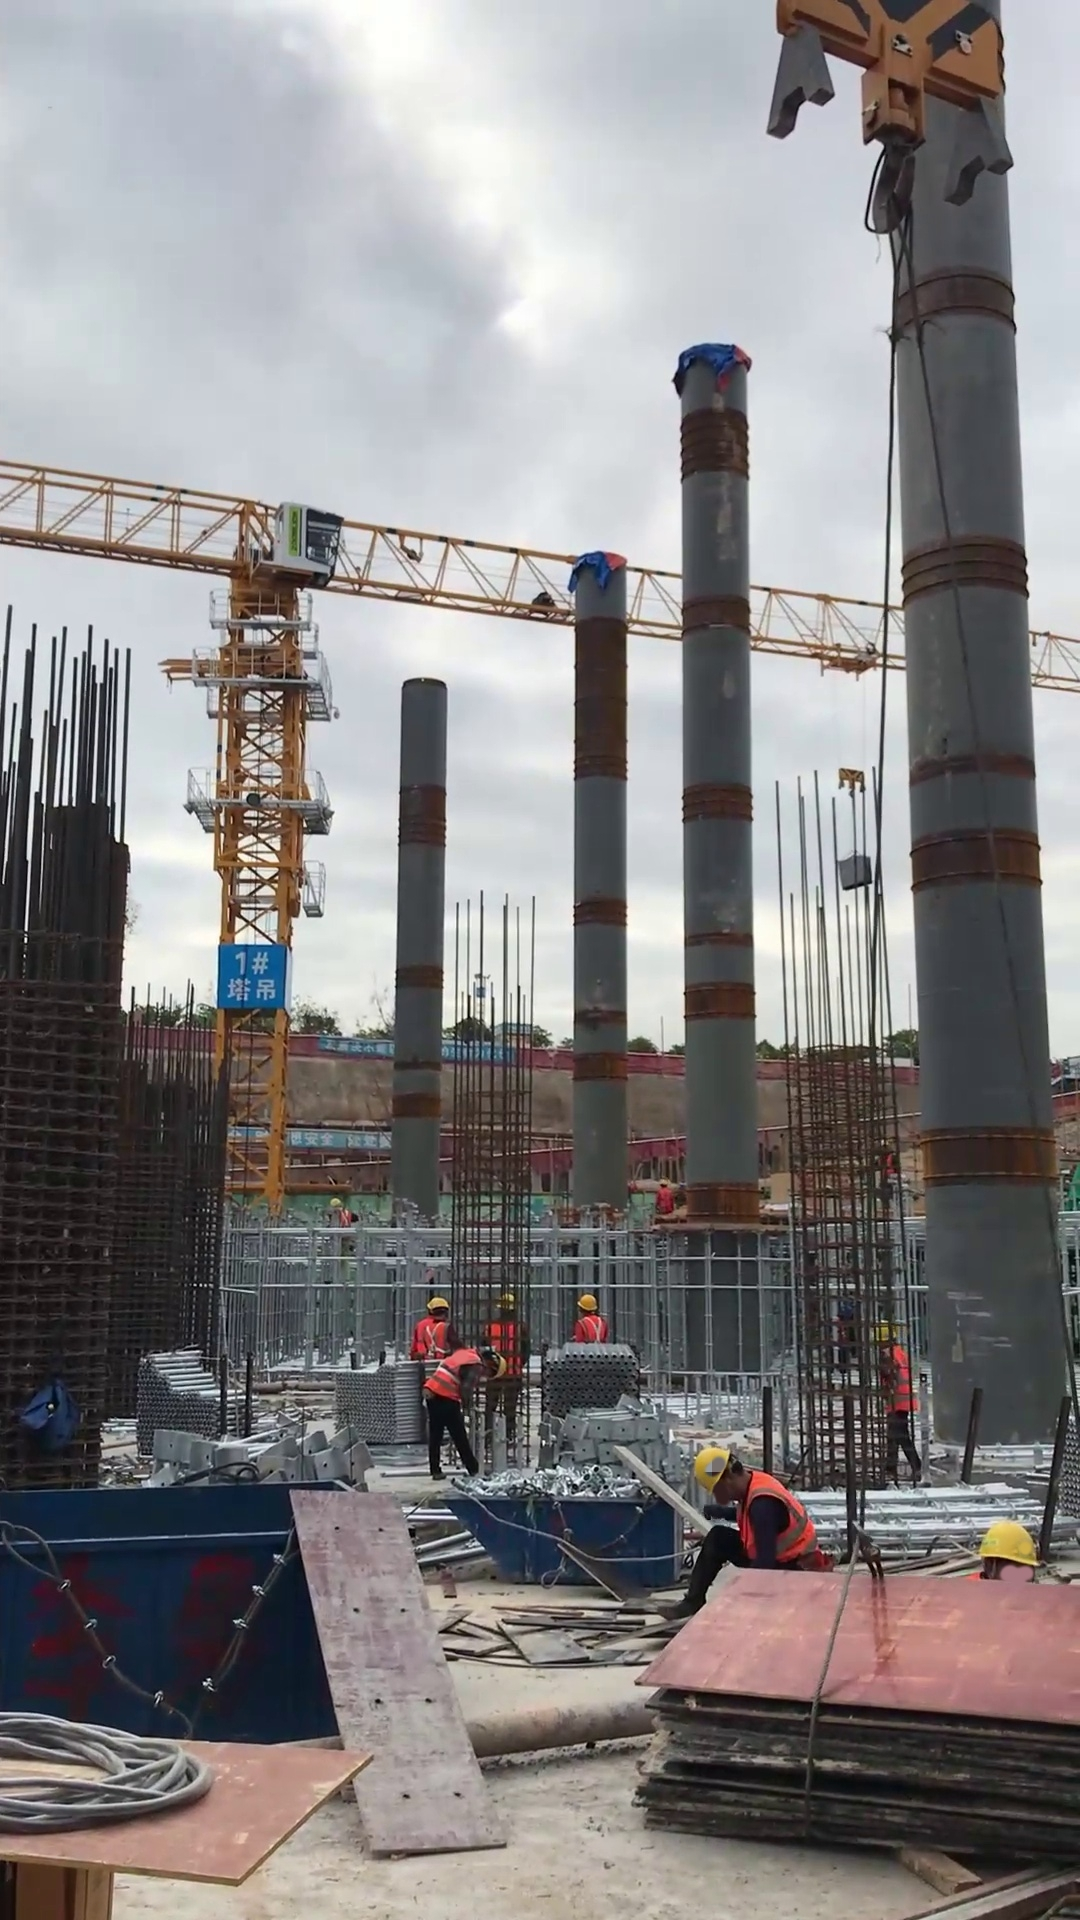board: (630, 1569, 1080, 1862)
cutter: (1, 1732, 381, 1920)
helmet: (976, 1518, 1040, 1569), (691, 1445, 731, 1493), (870, 1318, 897, 1346), (486, 1349, 507, 1383), (424, 1296, 451, 1316), (495, 1291, 517, 1313), (575, 1292, 598, 1313), (330, 1195, 343, 1211), (658, 1178, 669, 1188)
hook: (762, 1, 1016, 236), (837, 765, 866, 800)
hopper: (1, 1477, 363, 1742), (430, 1477, 686, 1591)
person: (655, 1443, 836, 1621), (420, 1346, 506, 1480), (868, 1316, 923, 1486), (482, 1290, 532, 1451), (420, 1296, 463, 1359), (570, 1290, 610, 1344), (651, 1177, 676, 1215), (330, 1194, 350, 1229)
scaffold: (786, 1482, 1080, 1562), (132, 1346, 260, 1457), (538, 1340, 643, 1418), (333, 1360, 427, 1446)
slogan: (320, 1036, 510, 1064), (217, 942, 289, 1011), (224, 1125, 396, 1152)
vest: (732, 1467, 819, 1567), (422, 1346, 483, 1404), (878, 1346, 919, 1416), (483, 1318, 525, 1382), (419, 1319, 453, 1361), (576, 1313, 608, 1344), (657, 1187, 675, 1215), (337, 1209, 352, 1228)
